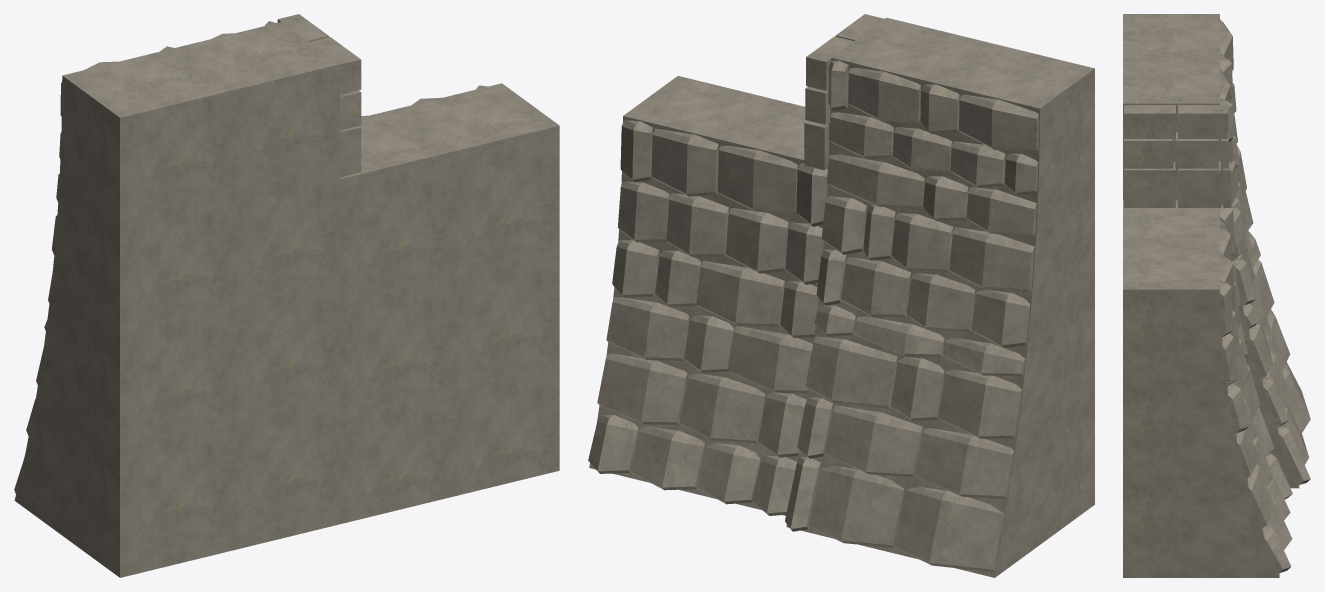
The model's file is HO_Wall_Ishigaki_Stepped_16.fbx.
3 views of the same model, side by side, from view 1: azimuth 30°, elevation 25°; view 2: azimuth 150°, elevation 25°; view 3: azimuth 270°, elevation 25° (orthographic). The views are drawn at different scales.
Parts seen in each view (by area): view 1: HO_Wall_Ishigaki_Stepped_16; view 2: HO_Wall_Ishigaki_Stepped_16; view 3: HO_Wall_Ishigaki_Stepped_16.
Part boxes in pixels (<box>): HO_Wall_Ishigaki_Stepped_16: <box>14,14,559,577</box>; HO_Wall_Ishigaki_Stepped_16: <box>588,14,1094,577</box>; HO_Wall_Ishigaki_Stepped_16: <box>1123,14,1310,577</box>.
Bounding box in the file's own units: 16 × 16 × 7.08.
